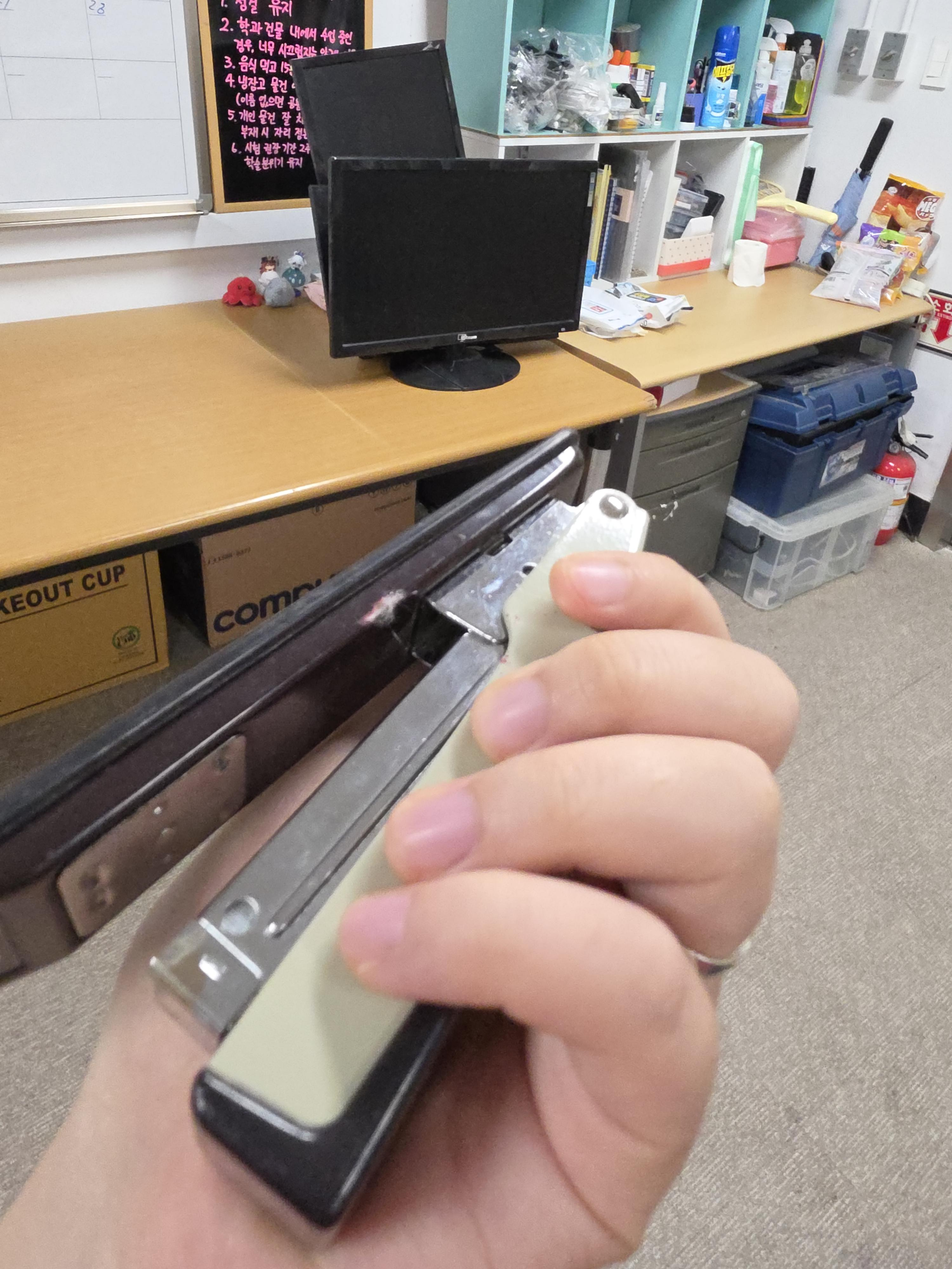stapler: (0, 426, 649, 1227)
tissue: (656, 216, 715, 279), (728, 239, 767, 288)
